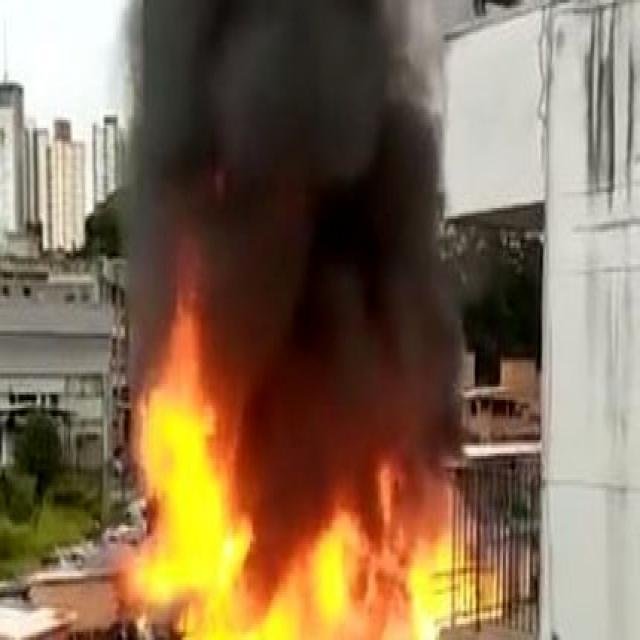Fire: (108, 320, 266, 636), (284, 466, 476, 640)
Smoke: (95, 0, 491, 408)
